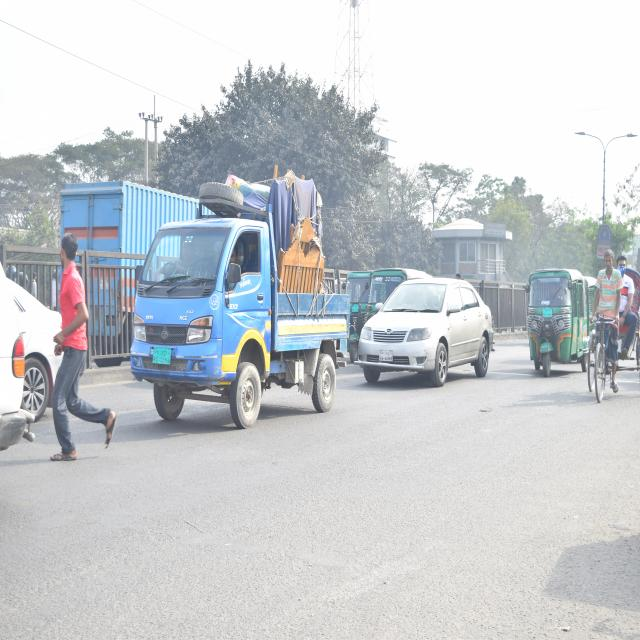car: (358, 274, 493, 396), (0, 261, 79, 462)
pickup-van: (127, 185, 350, 430)
